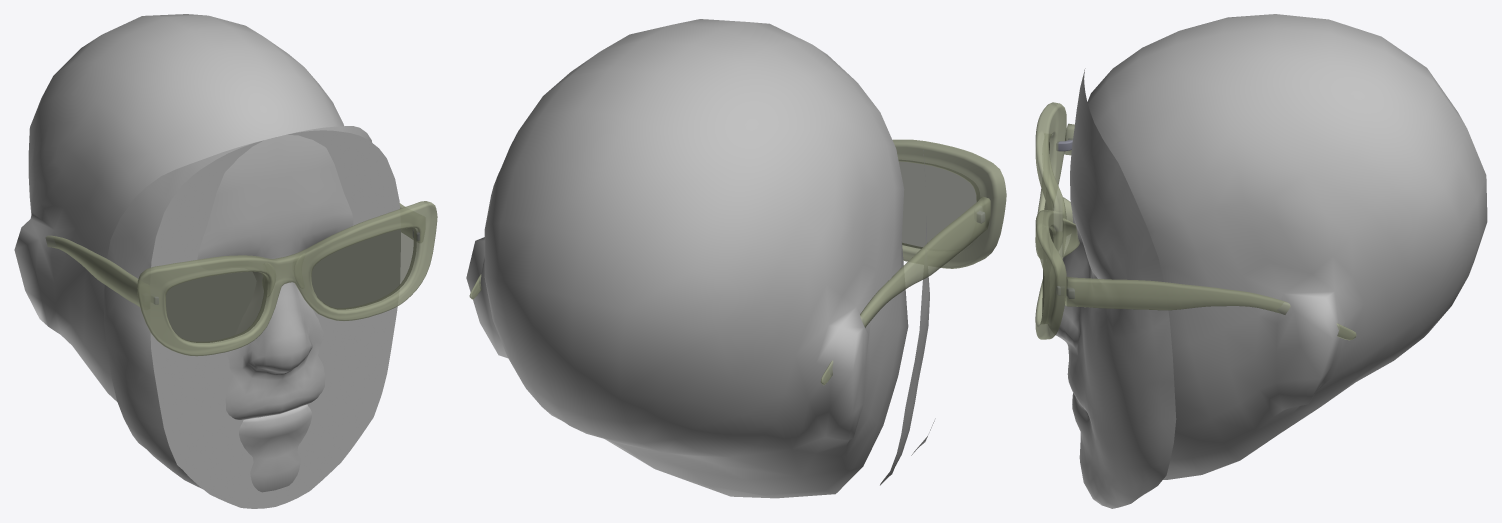
The model's file is mask.glb.
3 renders of one model, left to right at view 1: azimuth 30°, elevation 25°; view 2: azimuth 150°, elevation 25°; view 3: azimuth 270°, elevation 25°, orthographic. The views are drawn at different scales.
Parts seen in each view (by area): view 1: headOccluder, faceMesh.001, faceMesh, model 1; view 2: headOccluder, model 1, faceMesh; view 3: headOccluder, faceMesh, model 1.
Boxes of the visible parts, bbox=[...] form: headOccluder: bbox=[14, 14, 343, 401]; faceMesh.001: bbox=[150, 130, 400, 508]; faceMesh: bbox=[104, 126, 371, 492]; model 1: bbox=[45, 201, 437, 356]; headOccluder: bbox=[466, 19, 908, 498]; model 1: bbox=[469, 139, 1006, 385]; faceMesh: bbox=[880, 150, 929, 485]; headOccluder: bbox=[1087, 14, 1487, 479]; faceMesh: bbox=[1056, 68, 1176, 508]; model 1: bbox=[1035, 102, 1356, 340].
Bounding box in the file's own units: 2.33 × 3.05 × 2.67.
